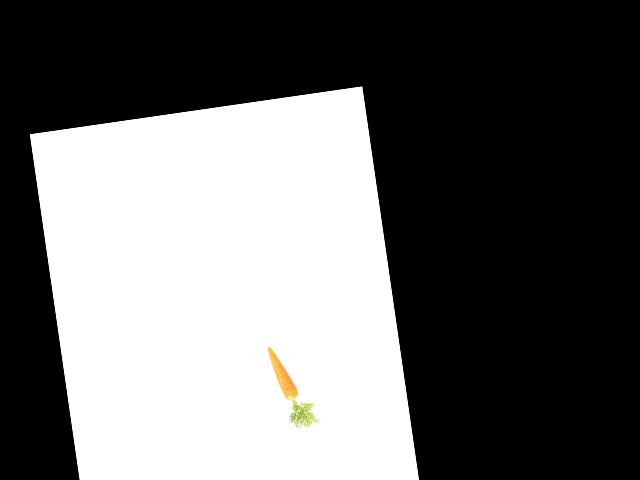carrot: (265, 340, 300, 404)
